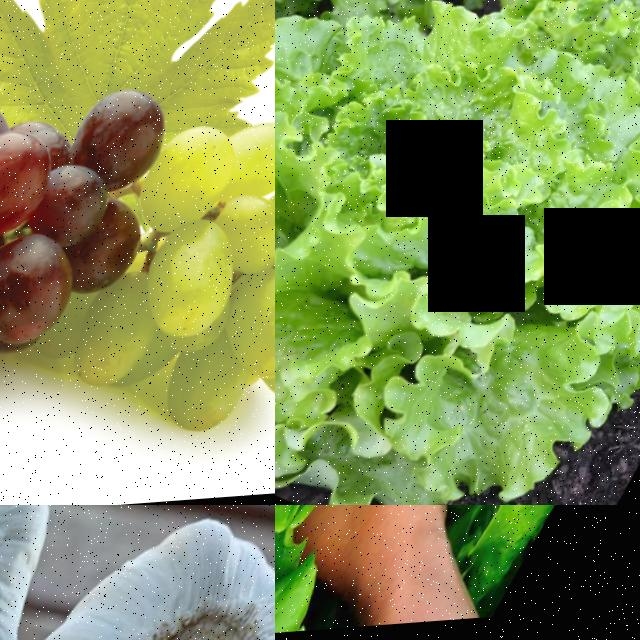garlic: (0, 505, 275, 640), (0, 505, 128, 640)
grapes: (35, 73, 275, 503), (0, 31, 148, 474)
lettuce: (275, 0, 640, 505), (448, 0, 640, 179), (275, 0, 500, 43)
